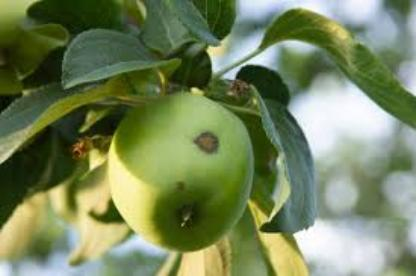defect: (184, 116, 228, 172)
